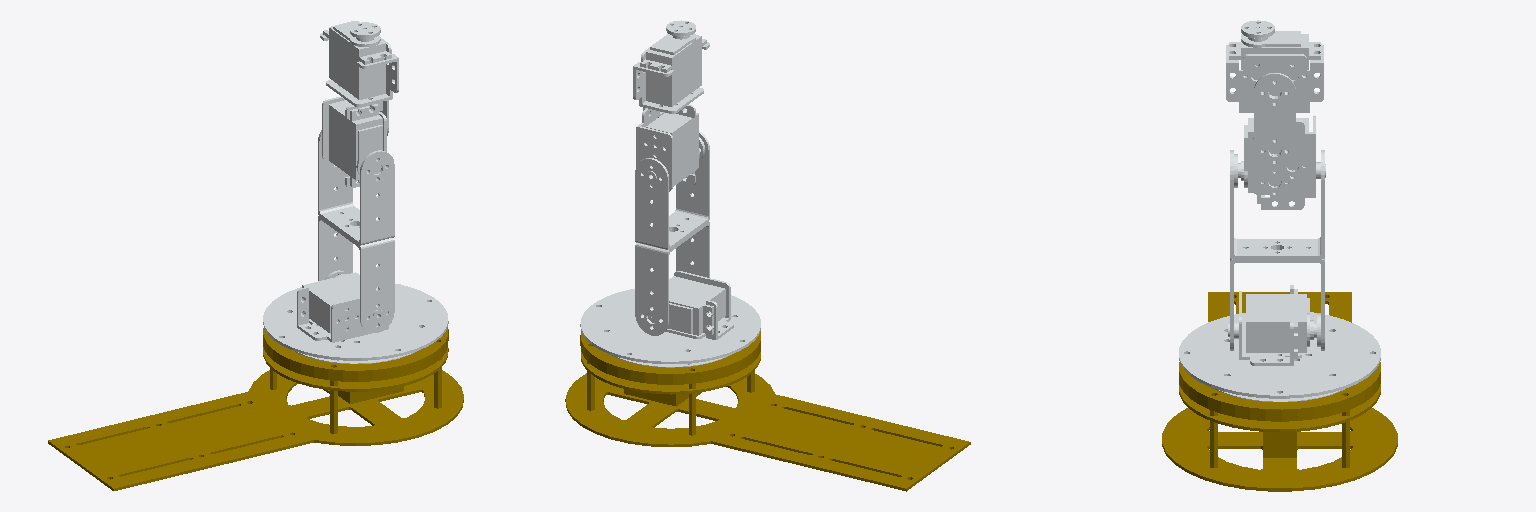
URDF robot description (alex5_description):
<robot
  name="alex5_description">
  <link
    name="base_link">
    <inertial>
      <origin
        xyz="-0.035092 -1.8934E-18 0.016426"
        rpy="0 0 0" />
      <mass
        value="0.6125" />
      <inertia
        ixx="0.0008262"
        ixy="1.5655E-19"
        ixz="-0.00033468"
        iyy="0.0031811"
        iyz="3.1218E-20"
        izz="0.0036068" />
    </inertial>
    <visual>
      <origin
        xyz="0 0 0"
        rpy="0 0 0" />
      <geometry>
        <mesh
          filename="package://alex5_description/meshes/base_link.STL" />
      </geometry>
      <material
        name="">
        <color
          rgba="0.64706 0.51765 0 1" />
      </material>
    </visual>
    <collision>
      <origin
        xyz="0 0 0"
        rpy="0 0 0" />
      <geometry>
        <mesh
          filename="package://alex5_description/meshes/base_link.STL" />
      </geometry>
    </collision>
  </link>
  <link
    name="link1">
    <inertial>
      <origin
        xyz="0.0019254 0.00072917 0.0091143"
        rpy="0 0 0" />
      <mass
        value="0.26786" />
      <inertia
        ixx="0.00022883"
        ixy="4.4171E-07"
        ixz="-7.0345E-06"
        iyy="0.00023337"
        iyz="-2.6224E-06"
        izz="0.00042138" />
    </inertial>
    <visual>
      <origin
        xyz="0 0 0"
        rpy="0 0 0" />
      <geometry>
        <mesh
          filename="package://alex5_description/meshes/link1.STL" />
      </geometry>
      <material
        name="">
        <color
          rgba="0.89804 0.91765 0.92941 1" />
      </material>
    </visual>
    <collision>
      <origin
        xyz="0 0 0"
        rpy="0 0 0" />
      <geometry>
        <mesh
          filename="package://alex5_description/meshes/link1.STL" />
      </geometry>
    </collision>
  </link>
  <joint
    name="joint1"
    type="revolute">
    <origin
      xyz="0 0 0.048"
      rpy="0 0 3.1416" />
    <parent
      link="base_link" />
    <child
      link="link1" />
    <axis
      xyz="0 0 1" />
    <limit
      lower="-1.57"
      upper="1.57"
      effort="0"
      velocity="0" />
  </joint>
  <link
    name="link2">
    <inertial>
      <origin
        xyz="-1.3878E-17 -0.052 -0.026"
        rpy="0 0 0" />
      <mass
        value="0.048335" />
      <inertia
        ixx="7.6992E-05"
        ixy="-2.8203E-21"
        ixz="-9.9754E-22"
        iyy="3.0796E-05"
        iyz="-4.9991E-06"
        izz="5.1135E-05" />
    </inertial>
    <visual>
      <origin
        xyz="0 0 0"
        rpy="0 0 0" />
      <geometry>
        <mesh
          filename="package://alex5_description/meshes/link2.STL" />
      </geometry>
      <material
        name="">
        <color
          rgba="0.89804 0.91765 0.92941 1" />
      </material>
    </visual>
    <collision>
      <origin
        xyz="0 0 0"
        rpy="0 0 0" />
      <geometry>
        <mesh
          filename="package://alex5_description/meshes/link2.STL" />
      </geometry>
    </collision>
  </link>
  <joint
    name="joint2"
    type="revolute">
    <origin
      xyz="0.0005 -0.0245 0.0245"
      rpy="-1.5708 2.381E-16 3.1416" />
    <parent
      link="link1" />
    <child
      link="link2" />
    <axis
      xyz="0 0 -1" />
    <limit
      lower="-1.57"
      upper="1.57"
      effort="0"
      velocity="0" />
  </joint>
  <link
    name="link3">
    <inertial>
      <origin
        xyz="-0.037382 0.003118 -0.026406"
        rpy="0 0 0" />
      <mass
        value="0.11163" />
      <inertia
        ixx="2.5487E-05"
        ixy="-1.2359E-08"
        ixz="6.4387E-06"
        iyy="0.00011851"
        iyz="8.6123E-08"
        izz="0.00010693" />
    </inertial>
    <visual>
      <origin
        xyz="0 0 0"
        rpy="0 0 0" />
      <geometry>
        <mesh
          filename="package://alex5_description/meshes/link3.STL" />
      </geometry>
      <material
        name="">
        <color
          rgba="0.89804 0.91765 0.92941 1" />
      </material>
    </visual>
    <collision>
      <origin
        xyz="0 0 0"
        rpy="0 0 0" />
      <geometry>
        <mesh
          filename="package://alex5_description/meshes/link3.STL" />
      </geometry>
    </collision>
  </link>
  <joint
    name="joint3"
    type="revolute">
    <origin
      xyz="0 -0.104 -0.052"
      rpy="3.1416 -2.1933E-16 1.5708" />
    <parent
      link="link2" />
    <child
      link="link3" />
    <axis
      xyz="0 0 1" />
    <limit
      lower="-1.57"
      upper="1.57"
      effort="0"
      velocity="0" />
  </joint>
  <link
    name="gripper_link">
    <inertial>
      <origin
        xyz="0 -2.1684E-19 -0.0014547"
        rpy="0 0 0" />
      <mass
        value="0.0019584" />
      <inertia
        ixx="5.1161E-08"
        ixy="-6.2709E-25"
        ixz="-1.9296E-24"
        iyy="5.1161E-08"
        iyz="2.2846E-25"
        izz="9.8556E-08" />
    </inertial>
    <visual>
      <origin
        xyz="0 0 0"
        rpy="0 0 0" />
      <geometry>
        <mesh
          filename="package://alex5_description/meshes/gripper_link.STL" />
      </geometry>
      <material
        name="">
        <color
          rgba="0.89804 0.91765 0.92941 1" />
      </material>
    </visual>
    <collision>
      <origin
        xyz="0 0 0"
        rpy="0 0 0" />
      <geometry>
        <mesh
          filename="package://alex5_description/meshes/gripper_link.STL" />
      </geometry>
    </collision>
  </link>
  <joint
    name="joint_gripper"
    type="revolute">
    <origin
      xyz="-0.0935 0 -0.0145"
      rpy="0 -1.5708 0" />
    <parent
      link="link3" />
    <child
      link="gripper_link" />
    <axis
      xyz="0 0 1" />
    <limit
      lower="-1.57"
      upper="1.57"
      effort="0"
      velocity="0" />
  </joint>
</robot>

--- Render facts (derived) ---
The picture shows the robot from 3 angles, left to right: view 1: azimuth 30°, elevation 25°; view 2: azimuth 150°, elevation 25°; view 3: azimuth 270°, elevation 25°; orthographic projection.
Robot: alex5_description — 5 links, 4 joints (4 revolute); root link base_link; default pose: every joint at zero.
Links seen in each view (by area): view 1: base_link, link1, link2, link3; view 2: base_link, link1, link2, link3; view 3: base_link, link1, link3, link2.
Link boxes in pixels (x1,y1,x2,y2): base_link: [48, 327, 463, 490]; link1: [263, 272, 448, 363]; link2: [318, 130, 394, 332]; link3: [320, 21, 398, 188]; base_link: [565, 331, 970, 491]; link1: [580, 271, 760, 367]; link2: [635, 131, 709, 335]; link3: [633, 27, 709, 191]; base_link: [1162, 292, 1397, 491]; link1: [1179, 285, 1380, 401]; link3: [1226, 27, 1325, 209]; link2: [1230, 150, 1324, 350].
Bounding box of the posed robot: 0.2747 × 0.1396 × 0.27 m (x, y, z).
Meshes: 5 distinct files referenced, 5 mesh visuals loaded (5 binary STL).
